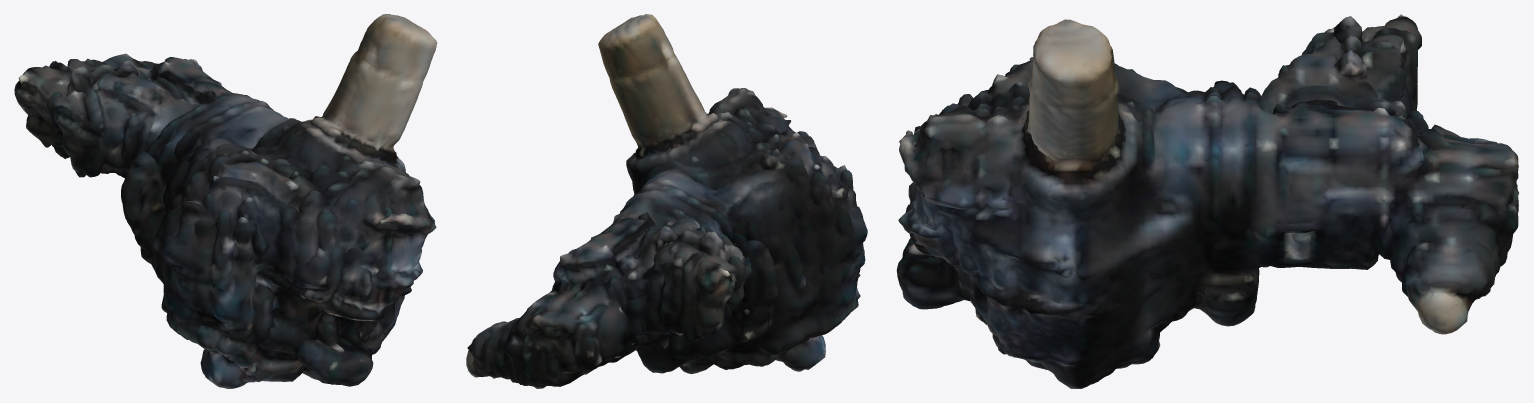
Rendered from steering.glb.
3 renders of one model, left to right at view 1: azimuth 30°, elevation 25°; view 2: azimuth 150°, elevation 25°; view 3: azimuth 270°, elevation 25°, orthographic. The views are drawn at different scales.
Parts seen in each view (by area): view 1: geometry_0; view 2: geometry_0; view 3: geometry_0.
Boxes of the visible parts, <box> form: geometry_0: <box>14,14,437,388</box>; geometry_0: <box>466,14,867,388</box>; geometry_0: <box>896,14,1518,388</box>.
Bounding box in the file's own units: 0.6037 × 0.7161 × 1.01.
